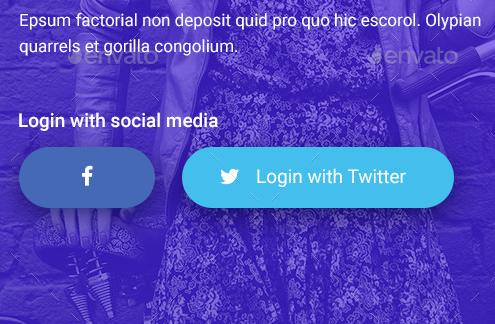button: (182, 146, 457, 208), (19, 147, 155, 209)
